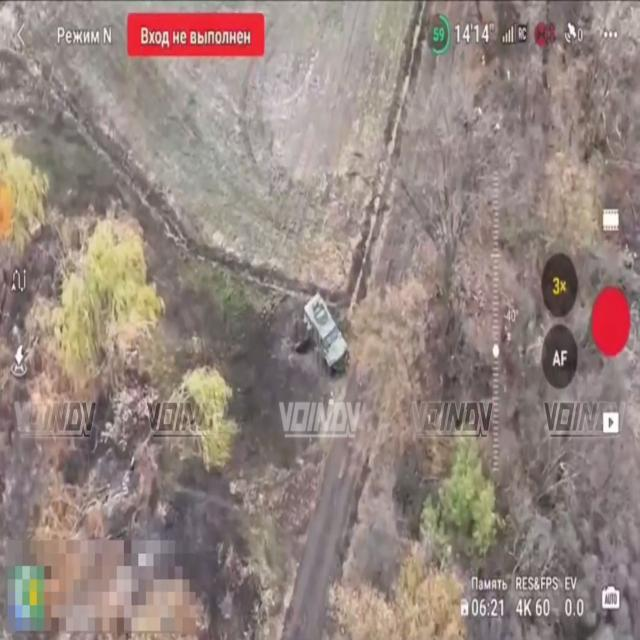vehicle: (296, 286, 355, 384)
